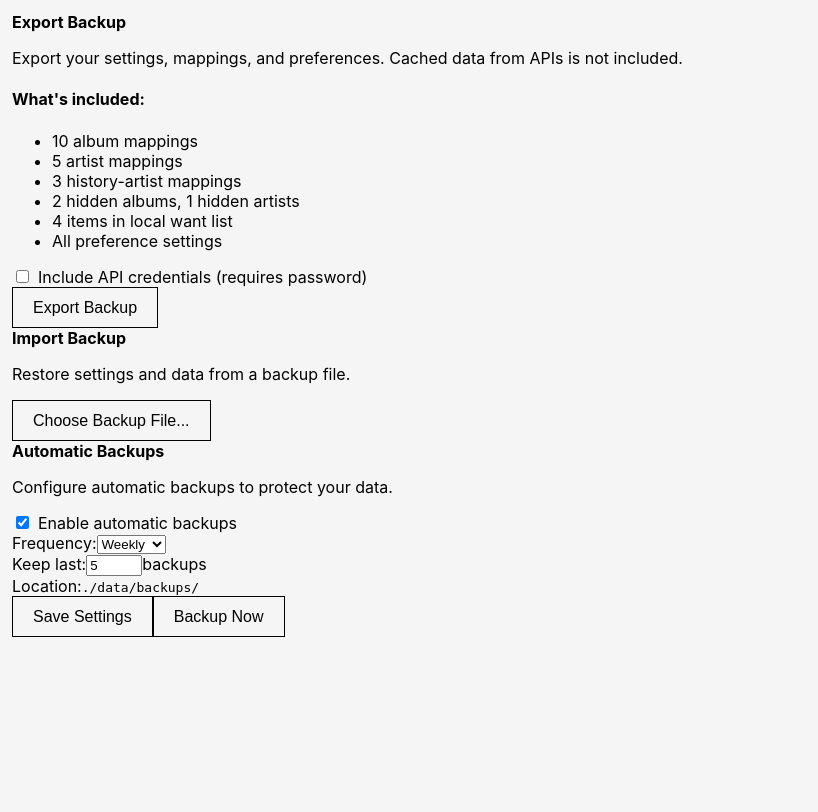
Test: SettingsBackupSection › shows error when password is too short
Click the checkbox labelled "Include API credentials (requires password)" at x=22, y=276, box x1=16 y1=270 x2=29 y2=283
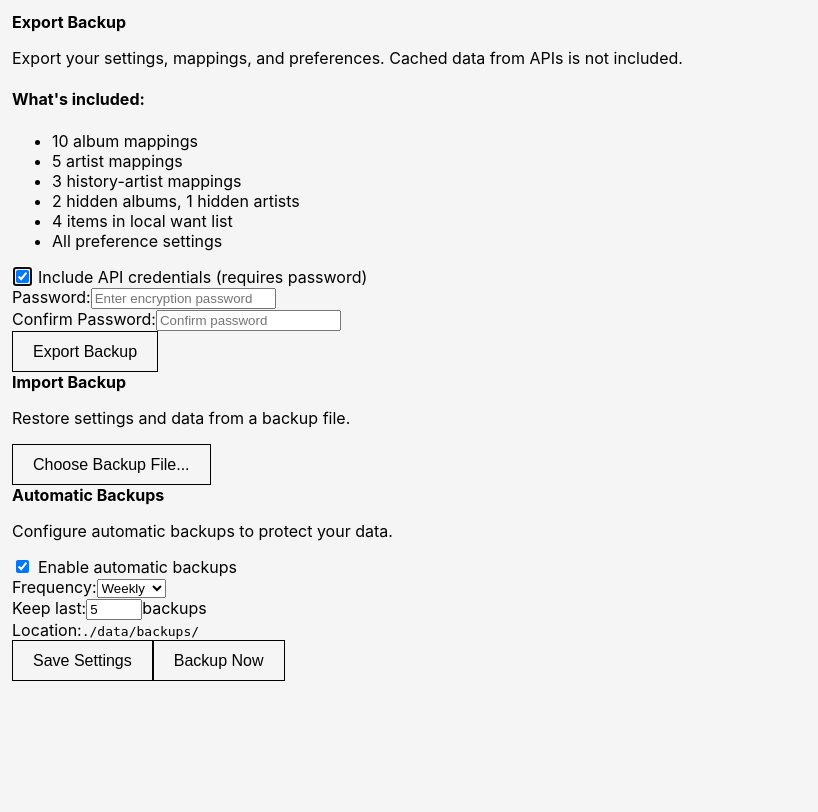
Type "short" into the password field with placeholder "Enter encryption password" at x=183, y=298, box x1=91 y1=288 x2=276 y2=308
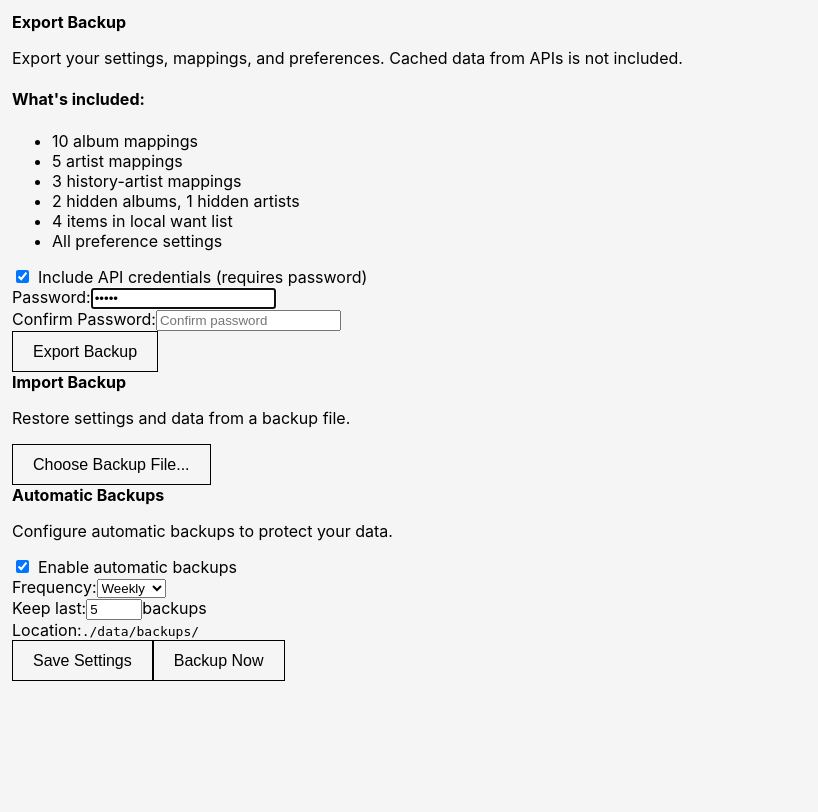
Type "short" into the password field with placeholder "Confirm password" at x=248, y=320, box x1=156 y1=310 x2=341 y2=330
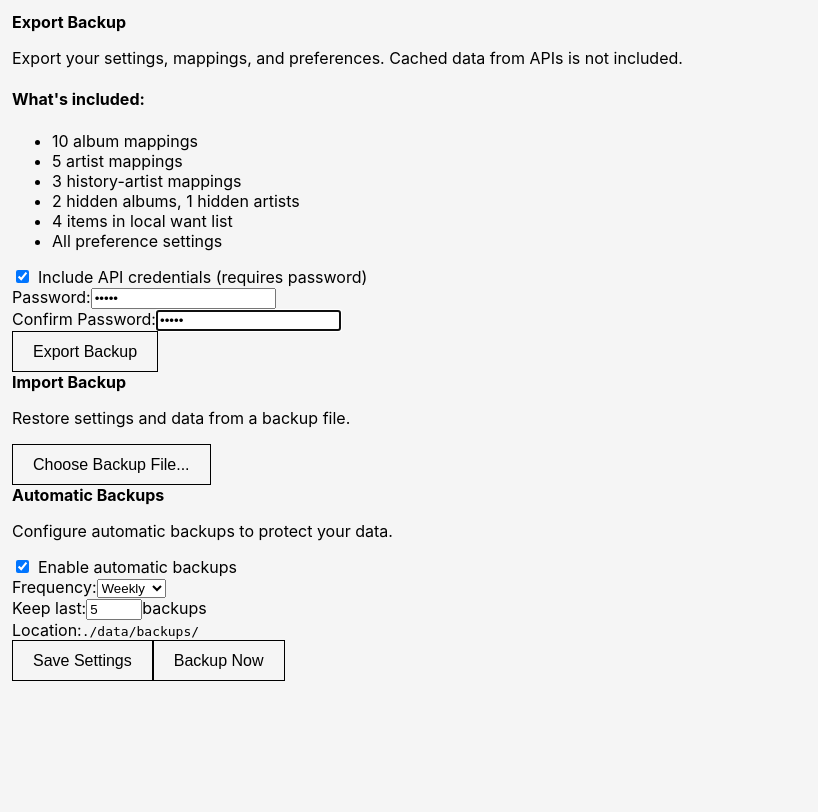
Click the button "Export Backup" at x=85, y=351, box x1=12 y1=330 x2=158 y2=372
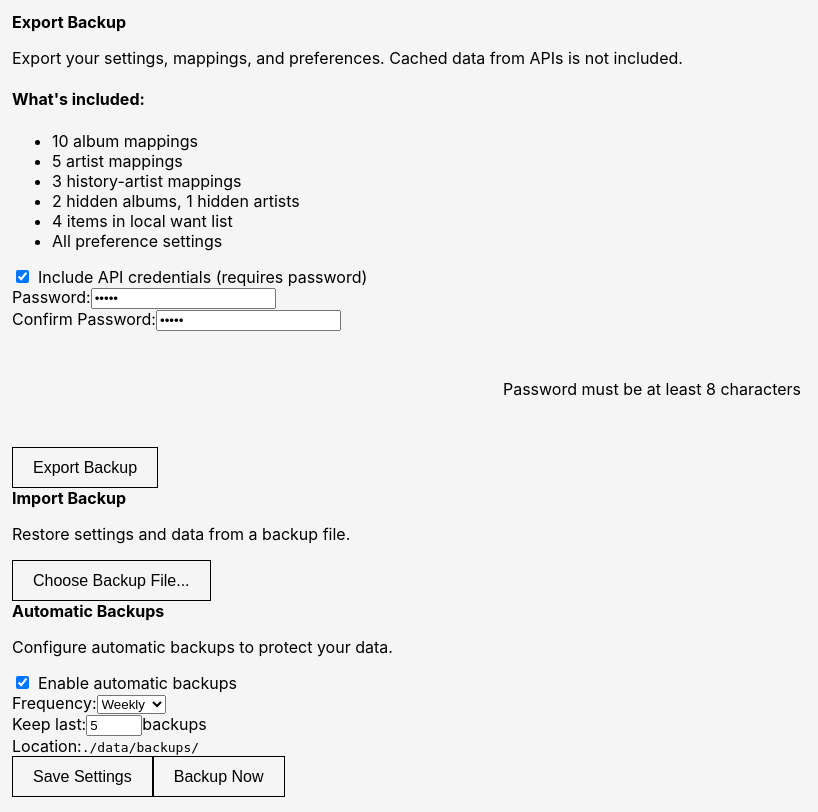
Expected: the text "Password must be at least 8 characters" is shown, x1=503 y1=378 x2=801 y2=398
